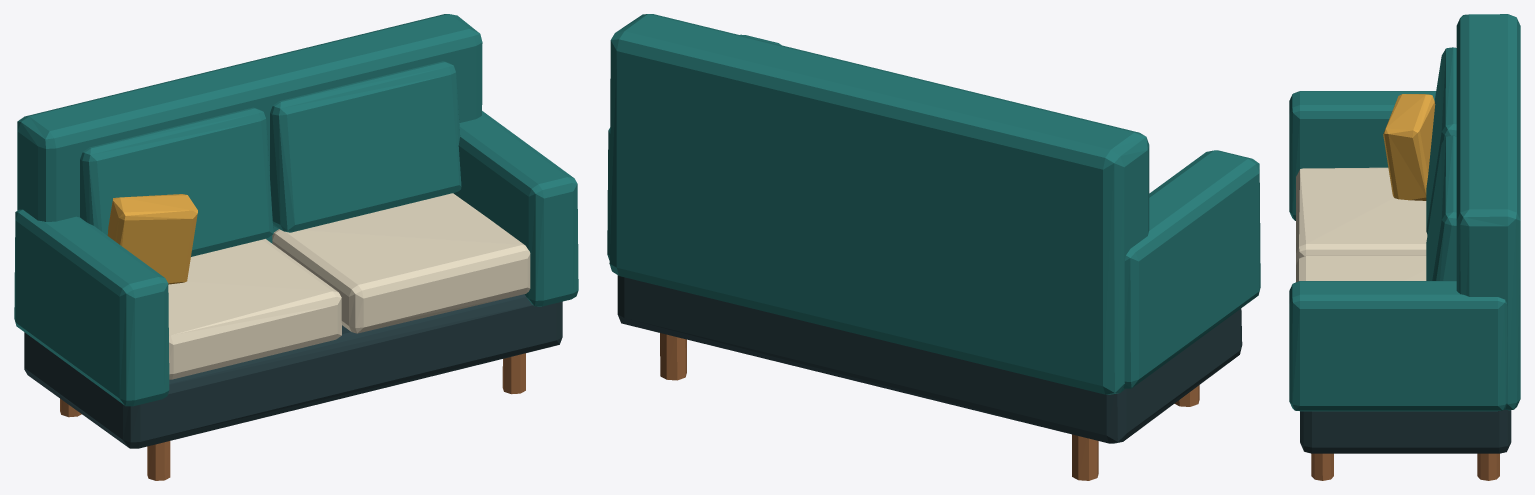
Rendered from two-seat-sofa-near.glb.
The picture shows the model from 3 angles, left to right: view 1: azimuth 30°, elevation 25°; view 2: azimuth 150°, elevation 25°; view 3: azimuth 270°, elevation 25°; orthographic projection. The views are drawn at different scales.
Visible parts, largest first — view 1: two-seat-sofa; view 2: two-seat-sofa; view 3: two-seat-sofa.
Boxes of the visible parts, bbox=[...] form: two-seat-sofa: bbox=[14, 14, 578, 480]; two-seat-sofa: bbox=[607, 14, 1260, 480]; two-seat-sofa: bbox=[1289, 14, 1520, 480].
Size of the model in its own units: 1.88 by 1.16 by 0.865.
